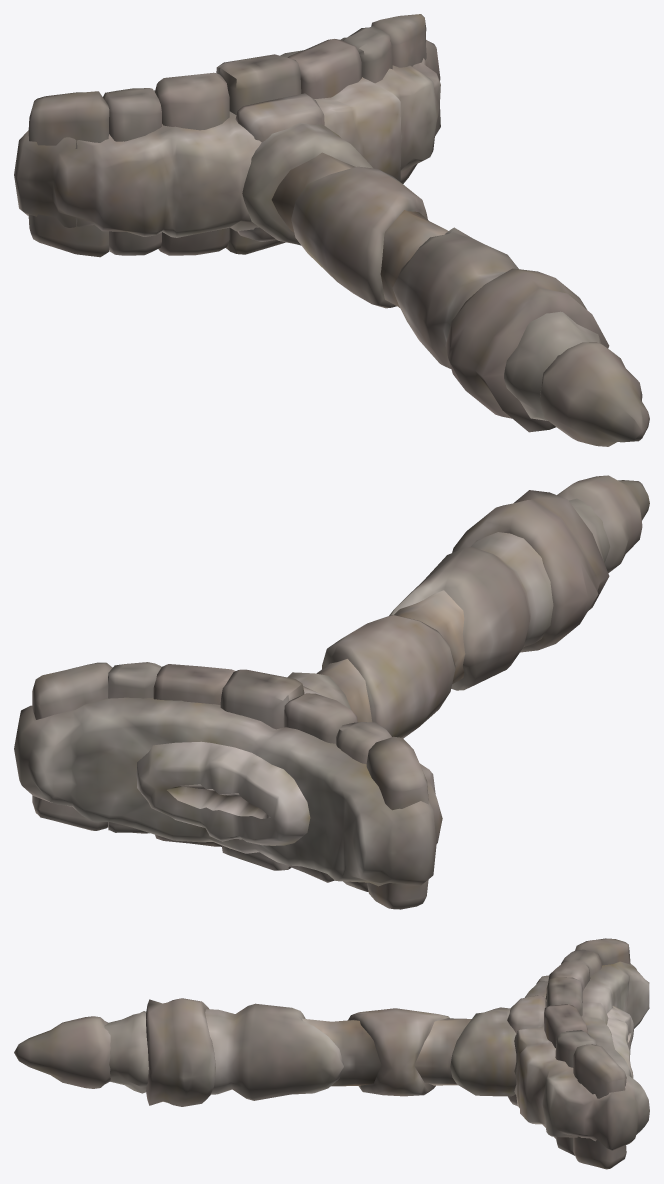
The model's file is weapon-wp_a_0222.glb.
3 renders of one model, top to bottom at view 1: azimuth 30°, elevation 25°; view 2: azimuth 150°, elevation 25°; view 3: azimuth 270°, elevation 25°, orthographic. The views are drawn at different scales.
Visible parts, largest first — view 1: wp_a_0222_mesh; view 2: wp_a_0222_mesh; view 3: wp_a_0222_mesh.
Part boxes in pixels (x1,y1,x2,y2): wp_a_0222_mesh: [14, 14, 649, 446]; wp_a_0222_mesh: [14, 475, 649, 909]; wp_a_0222_mesh: [14, 938, 649, 1169].
Bounding box in the file's own units: 0.1825 × 0.0753 × 0.332.
Materials: 1 (1 with a texture image).
